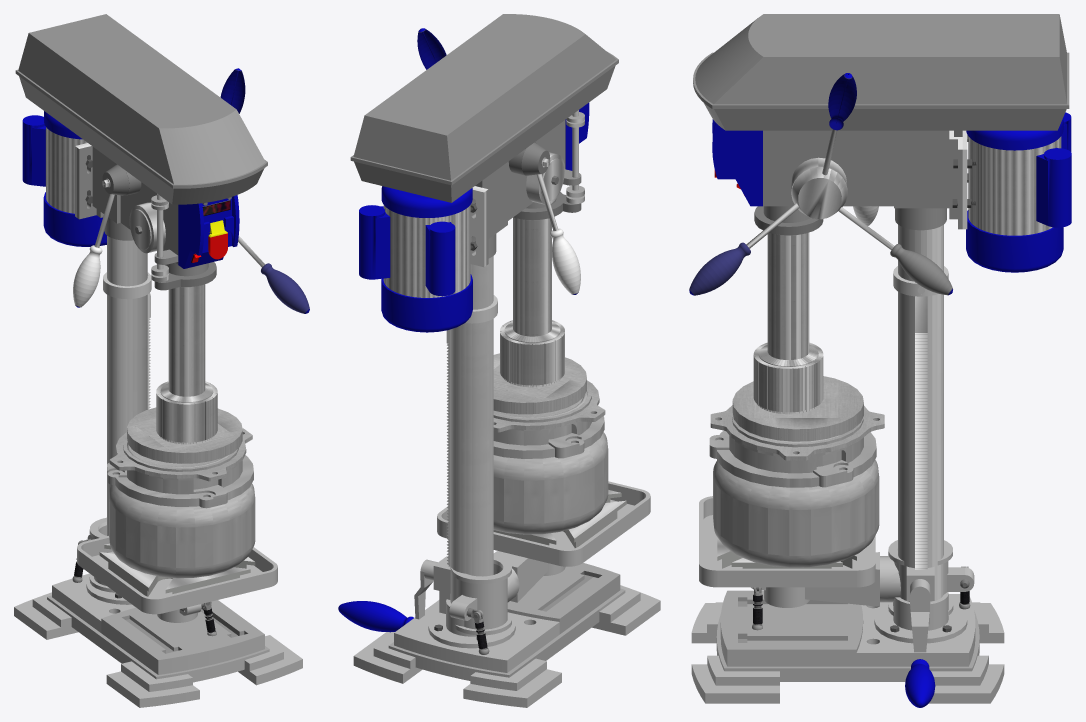
3 views of the same model, side by side, from view 1: azimuth 30°, elevation 25°; view 2: azimuth 150°, elevation 25°; view 3: azimuth 270°, elevation 25° (orthographic). The views are drawn at different scales.
Visible parts, largest first — view 1: 01, 1.002, 04, 03, 1.001, 1.003, 1, 02.001; view 2: 01, 04, 1.002, 03, 1.003, 1.001, 1, 02.001; view 3: 01, 04, 1.002, 03, 02.001, 1.001, 1.003, 1.
Boxes of the visible parts, bbox=[...] form: 01: bbox=[14, 14, 302, 707]; 1.002: bbox=[109, 483, 255, 578]; 04: bbox=[72, 517, 277, 636]; 03: bbox=[156, 284, 217, 444]; 1.001: bbox=[107, 455, 253, 508]; 1.003: bbox=[127, 407, 242, 463]; 1: bbox=[109, 428, 252, 481]; 02.001: bbox=[220, 68, 309, 313]; 01: bbox=[350, 14, 660, 707]; 04: bbox=[338, 481, 650, 654]; 1.002: bbox=[493, 432, 608, 534]; 03: bbox=[500, 217, 564, 387]; 1.003: bbox=[493, 353, 586, 414]; 1.001: bbox=[493, 416, 604, 458]; 1: bbox=[493, 380, 605, 432]; 02.001: bbox=[417, 28, 446, 69]; 01: bbox=[691, 14, 1071, 703]; 04: bbox=[699, 496, 974, 707]; 1.002: bbox=[713, 459, 879, 567]; 03: bbox=[753, 232, 823, 414]; 02.001: bbox=[689, 73, 952, 295]; 1.001: bbox=[709, 430, 876, 487]; 1.003: bbox=[732, 376, 863, 441]; 1: bbox=[710, 405, 884, 460].
Size of the model in its own units: 485 by 1234 by 681.
Materials: 39 (12 with a texture image).
